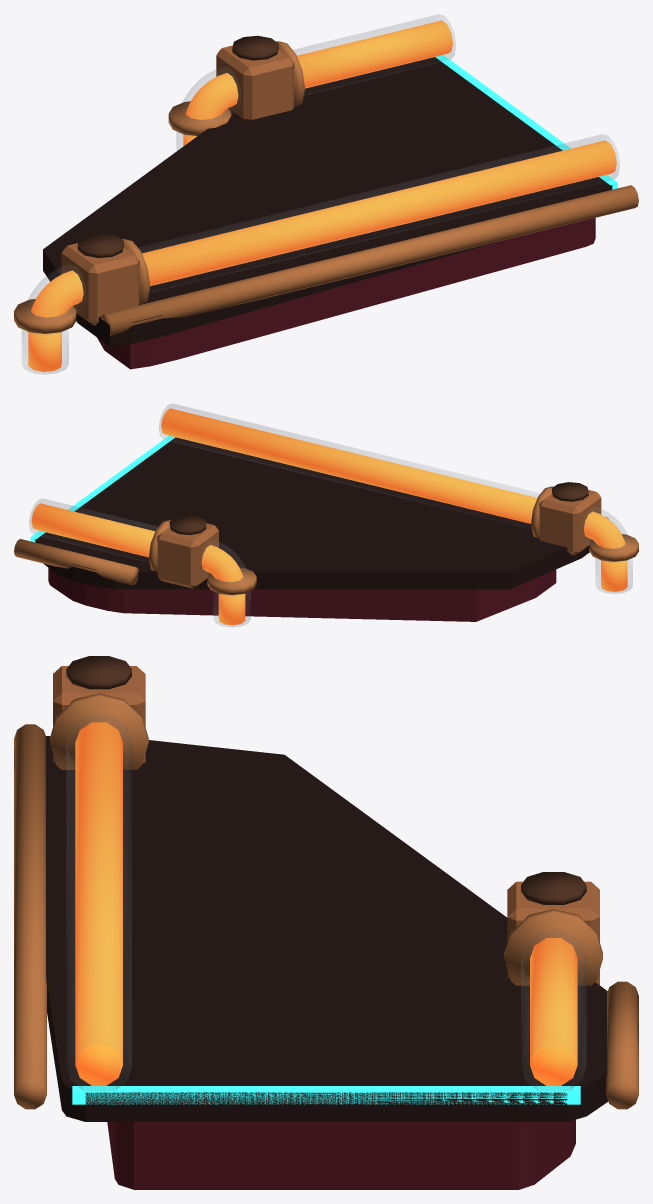
Rendered from Pier_Angled_80.glb.
The picture shows the model from 3 angles, top to bottom: view 1: azimuth 30°, elevation 25°; view 2: azimuth 150°, elevation 25°; view 3: azimuth 270°, elevation 25°; orthographic projection. The views are drawn at different scales.
Parts seen in each view (by area): view 1: CP_Pier_Angled_80; view 2: CP_Pier_Angled_80; view 3: CP_Pier_Angled_80.
Part boxes in pixels (x1,y1,x2,y2): CP_Pier_Angled_80: (14, 14, 638, 374); CP_Pier_Angled_80: (14, 404, 638, 626); CP_Pier_Angled_80: (14, 656, 638, 1189).
Size of the model in its own units: 6.32 by 1.31 by 4.18.
